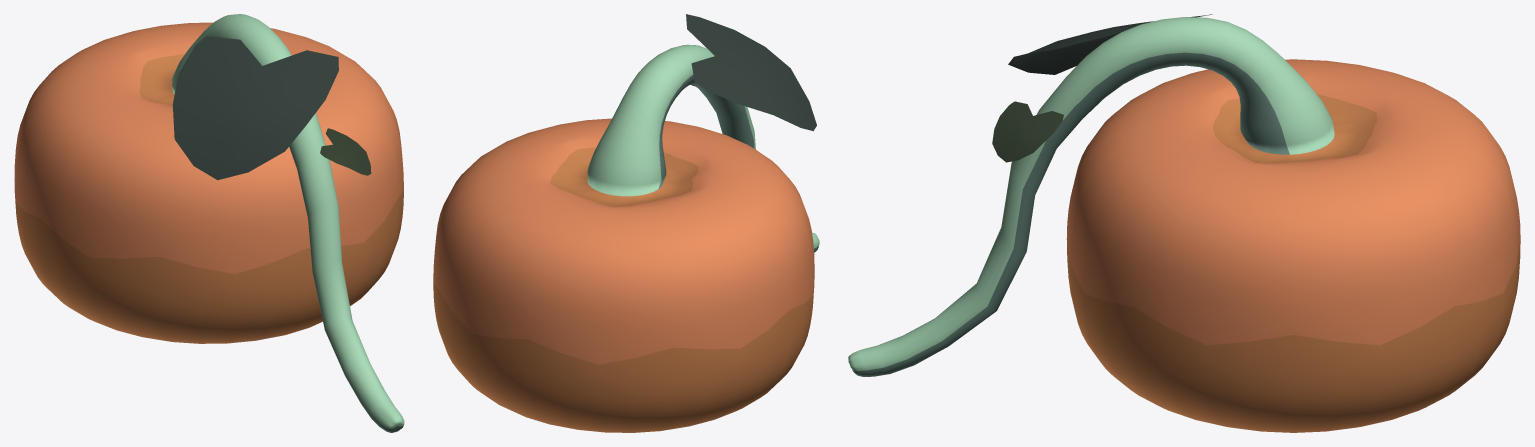
The model's file is Pumpkin.fbx.
The picture shows the model from 3 angles, left to right: view 1: azimuth 30°, elevation 25°; view 2: azimuth 150°, elevation 25°; view 3: azimuth 270°, elevation 25°; orthographic projection. The views are drawn at different scales.
Parts seen in each view (by area): view 1: Pumpkin; view 2: Pumpkin; view 3: Pumpkin.
Boxes of the visible parts, x1=… form: Pumpkin: x1=14, y1=14, x2=404, y2=432; Pumpkin: x1=433, y1=14, x2=819, y2=432; Pumpkin: x1=848, y1=14, x2=1520, y2=432.
Size of the model in its own units: 23.55 by 20.36 by 34.89.
